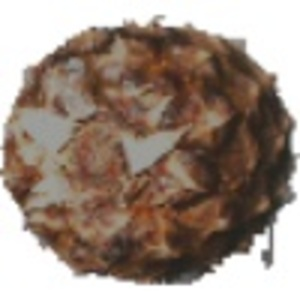abacaxi: (4, 17, 292, 275)
